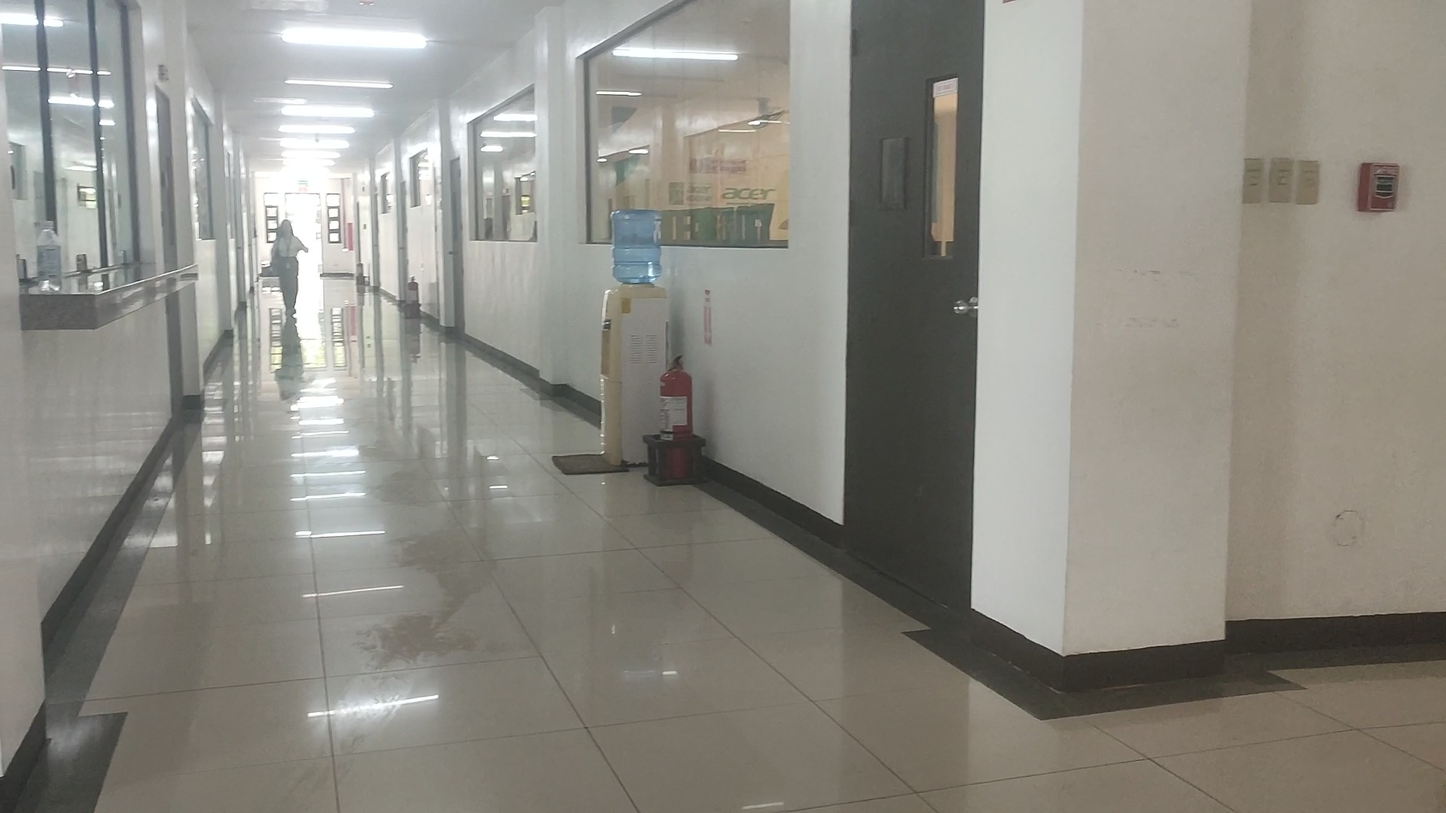door: (839, 0, 986, 616)
